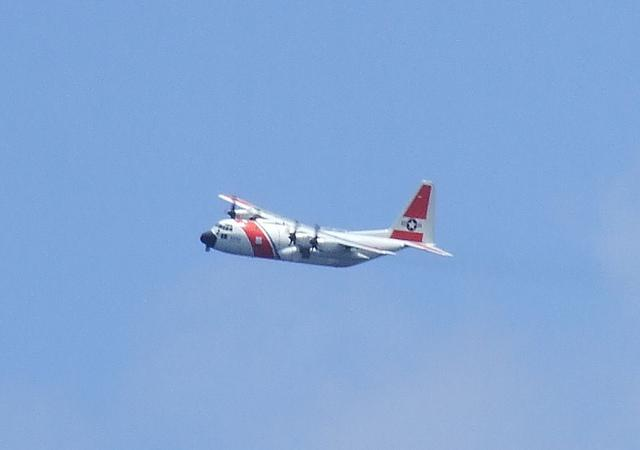airplane: (198, 178, 455, 270)
